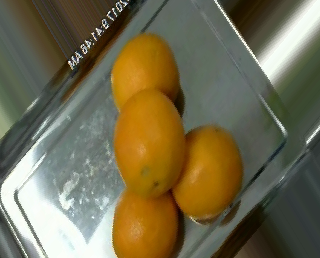Orange: (112, 88, 186, 199), (170, 123, 241, 223), (110, 33, 181, 118), (110, 184, 177, 258)
